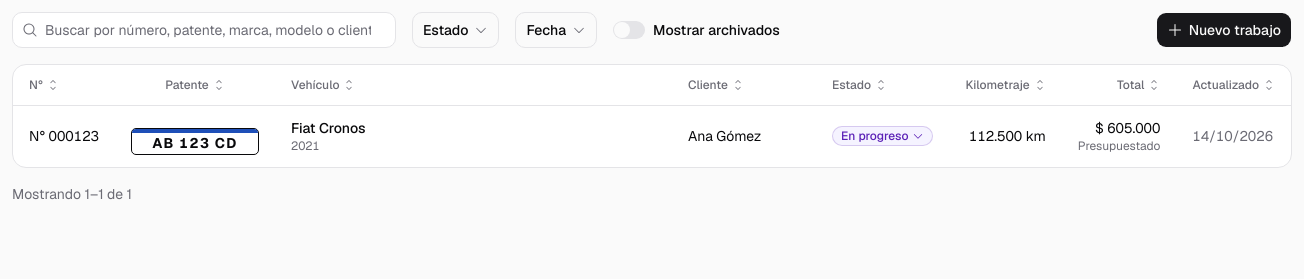
Test: JobsListView › offers to retry when the search fails
Step 1. Type "gol" into the search field with placeholder "Buscar por número, patente, marca, modelo o cliente" → point(204, 30), box [12,12,396,48]
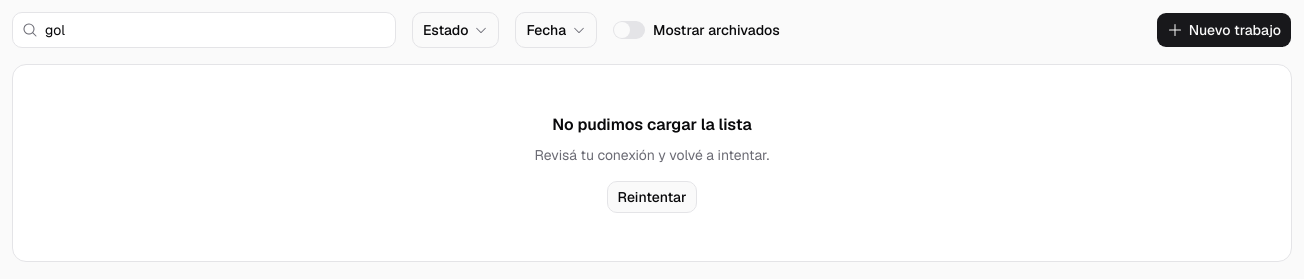
// The search waits for its debounce, which takes longer on a busy machine.
Step 2. Click the button "Reintentar" → point(652, 197), box [607,181,697,213]
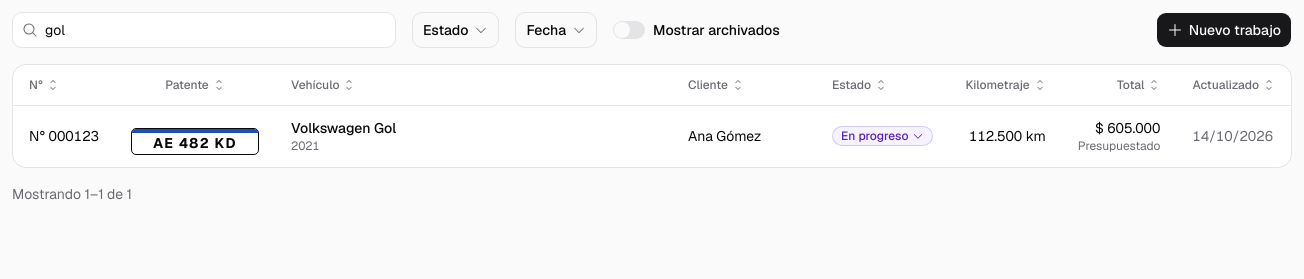
expect the text "Volkswagen Gol" is shown: met, box [291,118,396,138]
